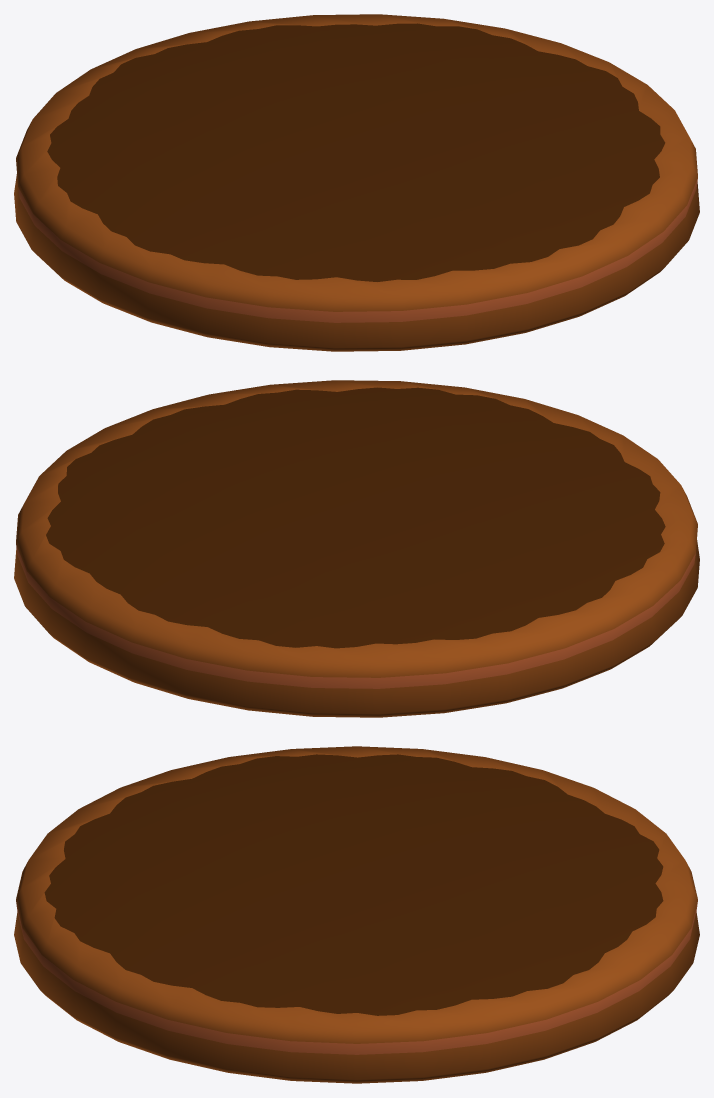
Rendered from PanCake_Cake_miss_one.fbx.
3 views of the same model, one above another, from view 1: azimuth 30°, elevation 25°; view 2: azimuth 150°, elevation 25°; view 3: azimuth 270°, elevation 25° (orthographic).
Parts seen in each view (by area): view 1: PanCake_miss_under; view 2: PanCake_miss_under; view 3: PanCake_miss_under.
Part boxes in pixels (x1,y1,x2,y2): PanCake_miss_under: (14, 14, 699, 351); PanCake_miss_under: (14, 380, 699, 717); PanCake_miss_under: (14, 746, 699, 1083).
Size of the model in its own units: 0.975 by 0.1286 by 0.975.
